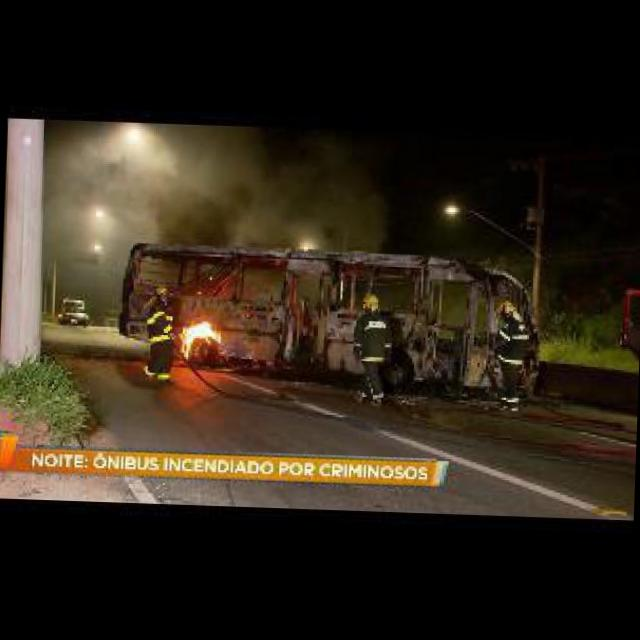fire: (175, 318, 221, 360)
smoke: (110, 152, 254, 257)
